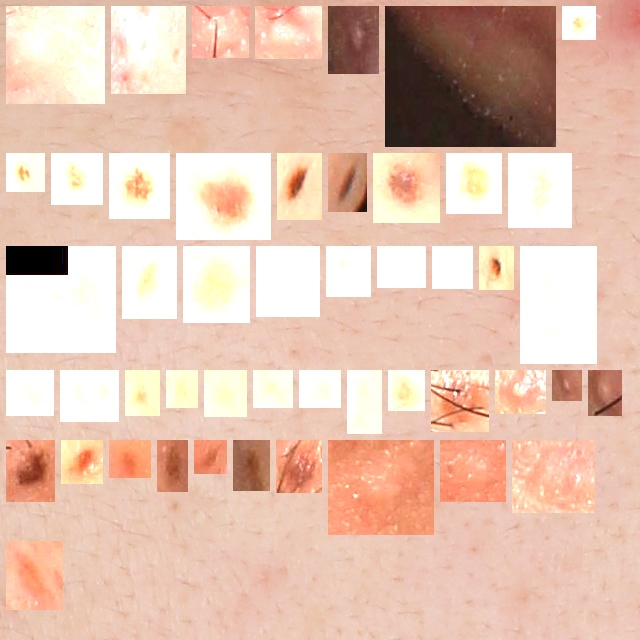hypertrophic_scar: (393, 14, 548, 139), (336, 448, 426, 527), (14, 14, 97, 96), (119, 14, 178, 86), (520, 448, 587, 505), (448, 448, 498, 494), (263, 14, 314, 51), (200, 14, 241, 50)
melasma: (14, 254, 108, 345), (528, 254, 589, 356), (191, 254, 242, 315), (516, 161, 564, 220), (264, 254, 312, 309), (130, 254, 169, 311), (14, 549, 55, 602), (68, 378, 111, 414), (334, 254, 363, 289), (14, 378, 46, 408), (355, 378, 374, 426), (385, 254, 418, 280), (212, 378, 239, 409), (440, 254, 465, 281), (307, 378, 333, 400), (133, 378, 152, 408), (261, 378, 285, 400), (174, 378, 190, 400)
nevus: (184, 161, 263, 232), (381, 161, 432, 215), (117, 161, 162, 211), (439, 378, 481, 424), (454, 161, 494, 206), (14, 448, 47, 494), (285, 161, 314, 212), (59, 161, 95, 197), (284, 448, 314, 485), (336, 161, 359, 204), (69, 448, 95, 476), (117, 448, 143, 470), (165, 448, 180, 484), (487, 254, 506, 282), (14, 161, 37, 184), (570, 14, 588, 32), (202, 448, 219, 466)
pustule: (336, 14, 371, 66), (503, 378, 538, 406), (596, 378, 614, 408), (560, 378, 574, 393)
